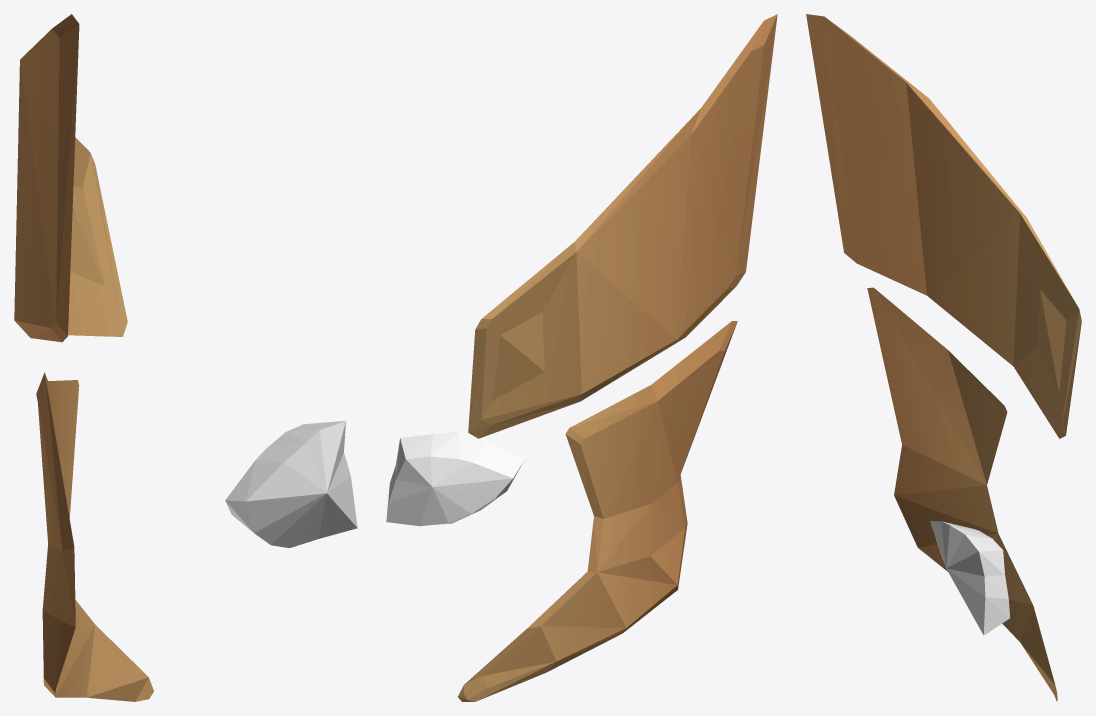
Rendered from CharSkyKid_Mask_ElderSunsetB_02.glb.
3 renders of one model, left to right at view 1: azimuth 30°, elevation 25°; view 2: azimuth 150°, elevation 25°; view 3: azimuth 270°, elevation 25°, orthographic. The views are drawn at different scales.
Visible parts, largest first — view 1: CharSkyKid_Mask_ElderSunsetB_02; view 2: CharSkyKid_Mask_ElderSunsetB_02; view 3: CharSkyKid_Mask_ElderSunsetB_02.
Part boxes in pixels (x1,y1,x2,y2): CharSkyKid_Mask_ElderSunsetB_02: (14,14,357,701); CharSkyKid_Mask_ElderSunsetB_02: (386,14,777,701); CharSkyKid_Mask_ElderSunsetB_02: (806,14,1081,701).
Size of the model in its own units: 1.06 by 2.16 by 0.8949.
1 material, 1 textured.
